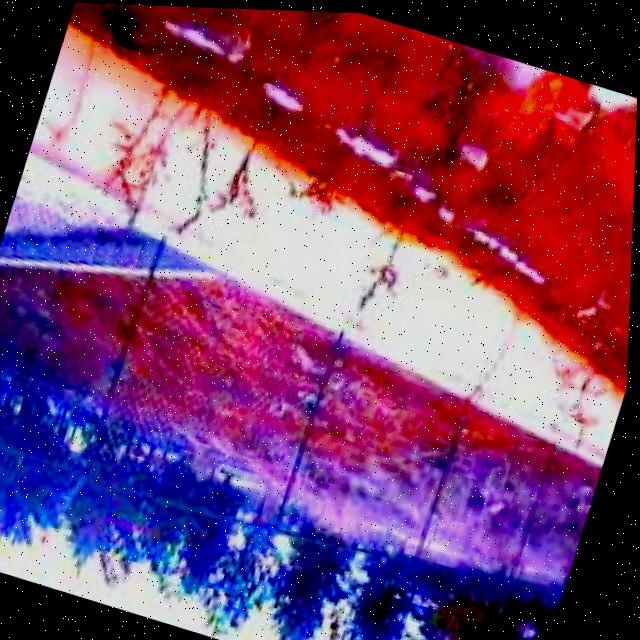Fire: (482, 54, 603, 171)
